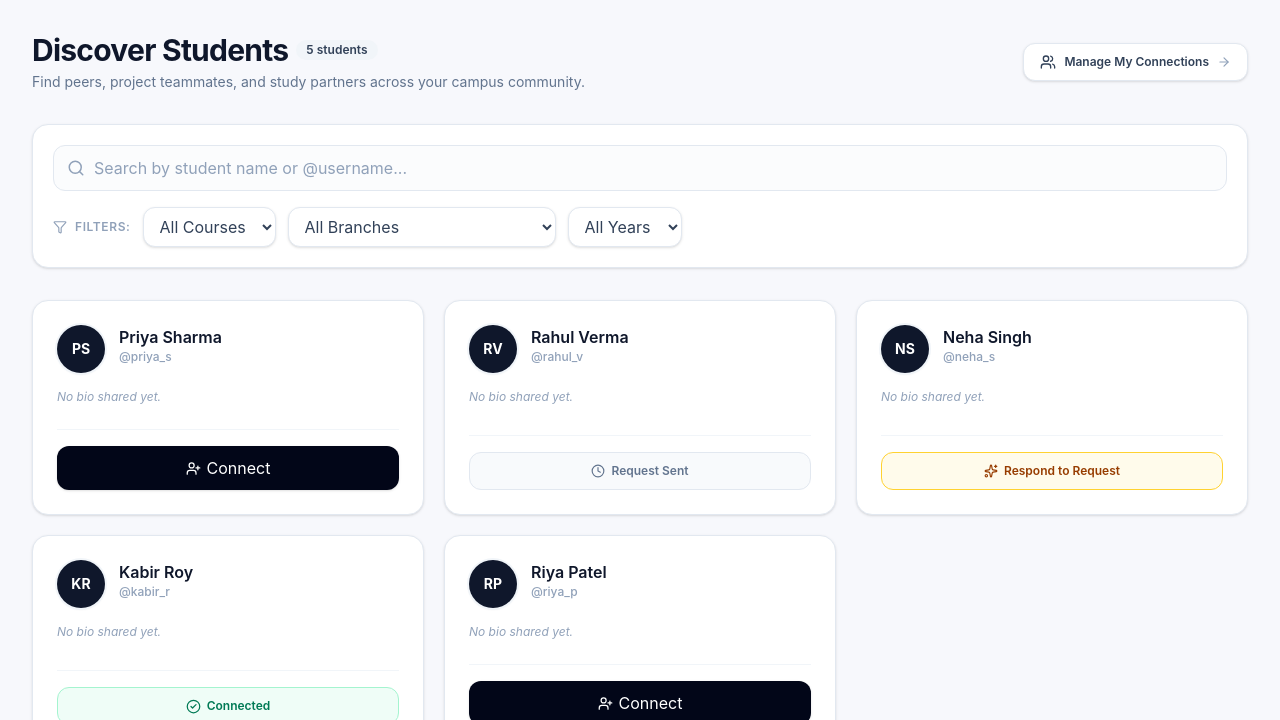
Test: Discover connection states and optimistic connect › renders all connection states including Connect for rejected users and rolls back on failure
Expected: the heading "Priya Sharma" is shown, x1=119 y1=327 x2=222 y2=347
Expected: the text "Request Sent" is shown, x1=612 y1=463 x2=688 y2=479
Click the button "Connect" below "priya_s": (228, 468) x1=57 y1=446 x2=399 y2=490
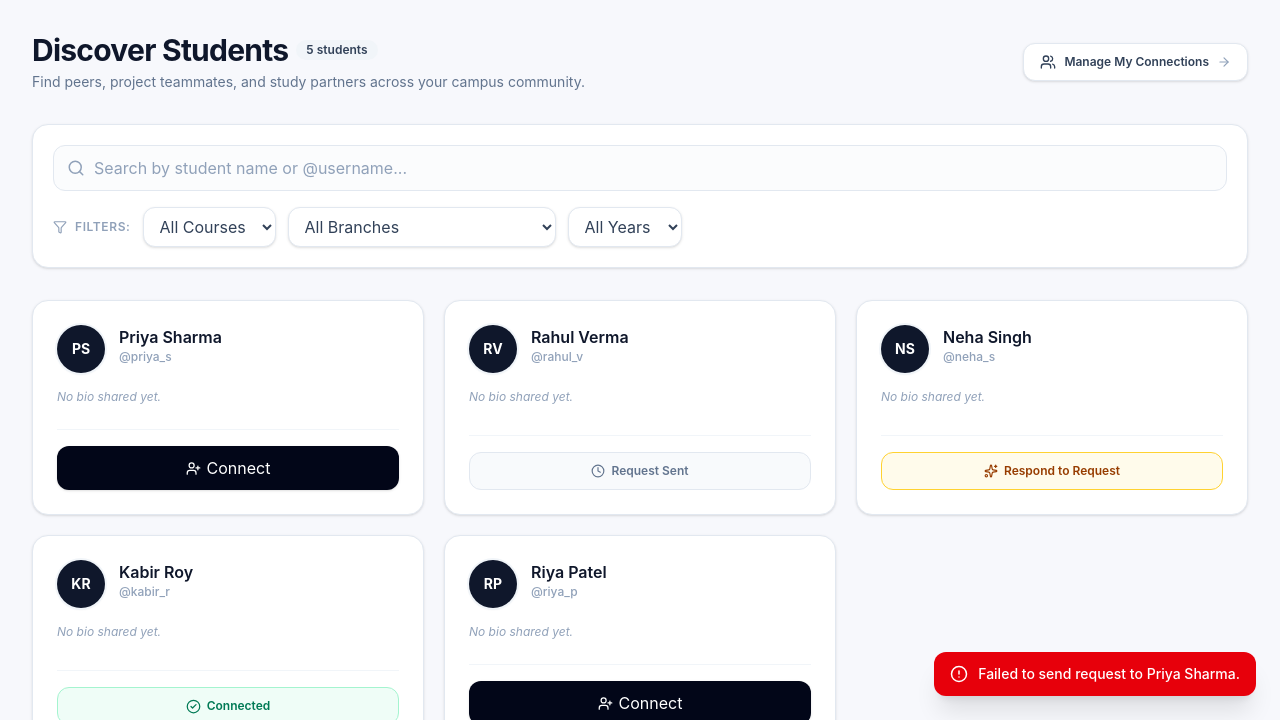
Expected: the text "Failed to send request to Priya Sharma." is shown, x1=978 y1=664 x2=1240 y2=684
